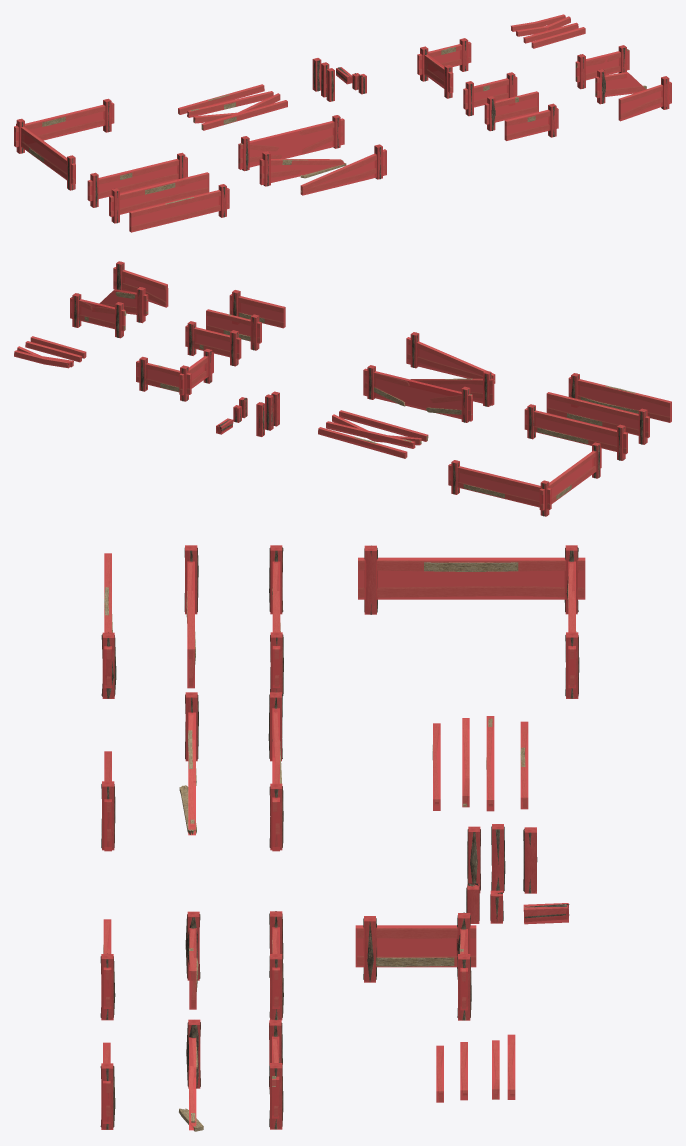
Rendered from wooden_fence_with_proxy.obj.
3 renders of one model, top to bottom at view 1: azimuth 30°, elevation 25°; view 2: azimuth 150°, elevation 25°; view 3: azimuth 270°, elevation 25°, orthographic. The views are drawn at different scales.
Parts seen in each view (by area): view 1: wooden_fence_large_corner, wooden_fence_large_broken_2poles, wooden_fence_large_1pole_R, wooden_fence_large_2poles, wooden_fence_large_1pole_L, wooden_fence_small_corner, wooden_fence_large_broken_1poleR, wooden_fence_large_broken_1poleL, wooden_fence_small_broken_1poleR, wooden_fence_small_1pole_L, wooden_fence_small_1pole_R, wooden_fence_small_broken_2poles (+10 smaller); view 2: wooden_fence_large_corner, wooden_fence_large_broken_2poles, wooden_fence_large_2poles, wooden_fence_large_1pole_L, wooden_fence_large_1pole_R, wooden_fence_small_corner, wooden_fence_large_broken_1poleR, wooden_fence_small_broken_2poles, wooden_fence_small_2poles, wooden_fence_small_1pole_L, wooden_fence_small_1pole_R, wooden_fence_small_broken_1poleR (+7 smaller); view 3: wooden_fence_large_corner, wooden_fence_small_corner, wooden_fence_large_broken_2poles, wooden_fence_large_2poles, wooden_fence_large_broken_1poleL, wooden_fence_large_1pole_L, wooden_fence_large_1pole_R, wooden_fence_small_2poles, wooden_fence_small_broken_2poles, wooden_fence_small_broken_1poleL, wooden_fence_small_1pole_R, wooden_fence_large_broken_1poleR (+6 smaller).
Part boxes in pixels (x1,y1,x2,y2): wooden_fence_large_corner: [14, 98, 114, 190]; wooden_fence_large_broken_2poles: [238, 115, 344, 171]; wooden_fence_large_1pole_R: [129, 184, 229, 232]; wooden_fence_large_2poles: [87, 152, 187, 207]; wooden_fence_large_1pole_L: [109, 172, 209, 223]; wooden_fence_small_corner: [417, 38, 471, 98]; wooden_fence_large_broken_1poleR: [300, 144, 386, 195]; wooden_fence_large_broken_1poleL: [259, 151, 346, 186]; wooden_fence_small_broken_1poleR: [618, 76, 671, 121]; wooden_fence_small_1pole_L: [484, 91, 538, 131]; wooden_fence_small_1pole_R: [504, 103, 558, 140]; wooden_fence_small_broken_2poles: [575, 45, 629, 89]; wooden_fence_large_corner: [448, 442, 601, 516]; wooden_fence_large_broken_2poles: [363, 365, 472, 422]; wooden_fence_large_2poles: [524, 404, 627, 460]; wooden_fence_large_1pole_L: [546, 392, 649, 444]; wooden_fence_large_1pole_R: [568, 373, 671, 422]; wooden_fence_small_corner: [136, 349, 213, 401]; wooden_fence_large_broken_1poleR: [406, 332, 495, 383]; wooden_fence_small_broken_2poles: [70, 293, 126, 338]; wooden_fence_small_2poles: [185, 321, 241, 366]; wooden_fence_small_1pole_L: [206, 309, 261, 350]; wooden_fence_small_1pole_R: [229, 290, 285, 328]; wooden_fence_small_broken_1poleR: [113, 261, 168, 307]; wooden_fence_large_corner: [358, 545, 585, 698]; wooden_fence_small_corner: [355, 912, 476, 1020]; wooden_fence_large_broken_2poles: [268, 692, 283, 851]; wooden_fence_large_2poles: [269, 545, 283, 695]; wooden_fence_large_broken_1poleL: [179, 692, 198, 835]; wooden_fence_large_1pole_L: [184, 545, 198, 688]; wooden_fence_large_1pole_R: [101, 553, 116, 698]; wooden_fence_small_2poles: [269, 911, 283, 1020]; wooden_fence_small_broken_2poles: [269, 1020, 283, 1129]; wooden_fence_small_broken_1poleL: [179, 1019, 203, 1131]; wooden_fence_small_1pole_R: [100, 919, 115, 1020]; wooden_fence_large_broken_1poleR: [101, 751, 115, 851].
Size of the model in its own units: 2662 by 156 by 1034.
